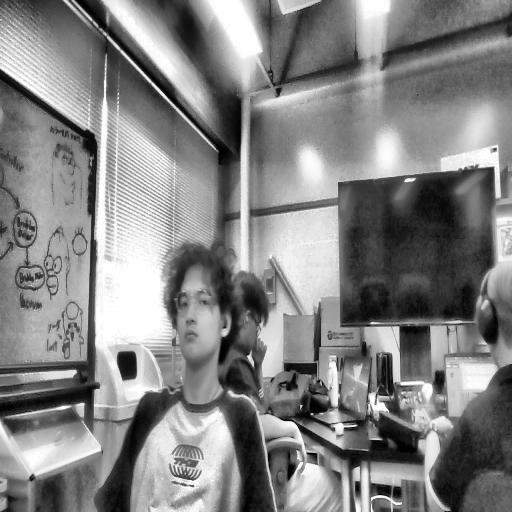Daifuku: (160, 241, 239, 369)
Not Daifuku: (473, 252, 512, 374), (240, 293, 272, 367)
